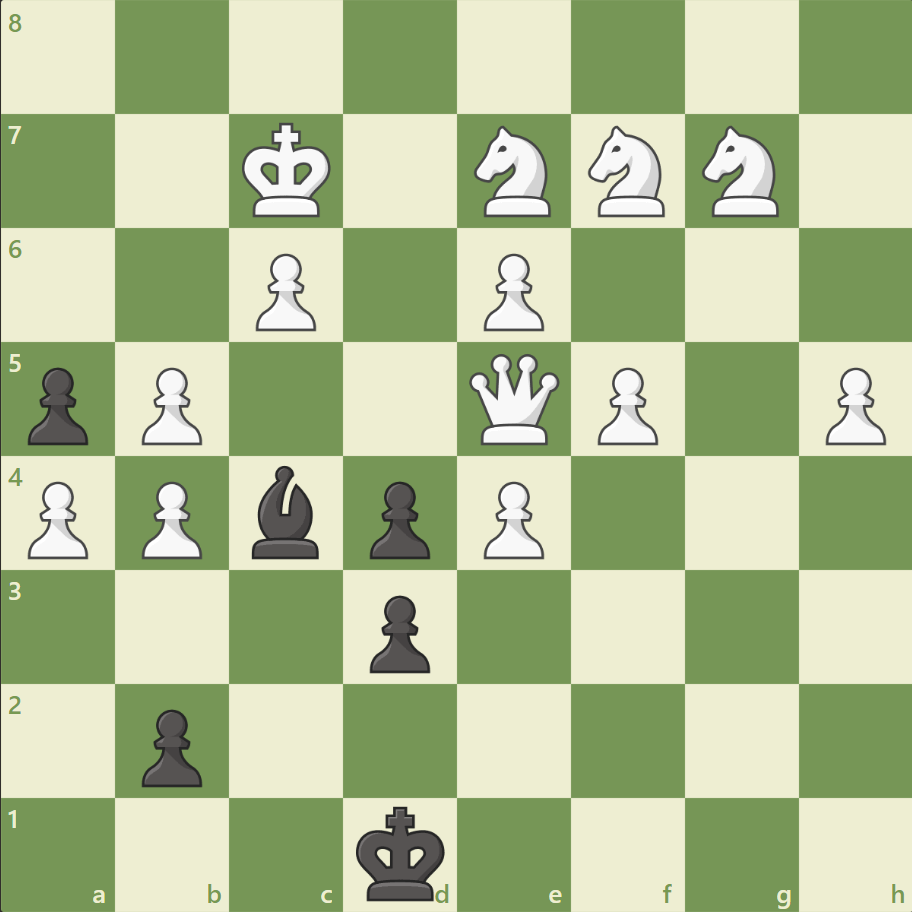K: (238, 117, 338, 225)
N: (465, 121, 562, 223), (579, 121, 676, 223), (692, 121, 789, 223)
P: (247, 246, 322, 337), (474, 246, 549, 337), (133, 359, 208, 450), (20, 473, 95, 564), (133, 473, 208, 564), (474, 473, 549, 564), (588, 359, 662, 450), (815, 359, 889, 450)
Q: (464, 349, 563, 449)
b: (244, 460, 328, 563)
k: (351, 798, 451, 906)
p: (20, 359, 95, 450), (133, 700, 208, 791), (361, 473, 435, 564), (361, 586, 435, 677)
